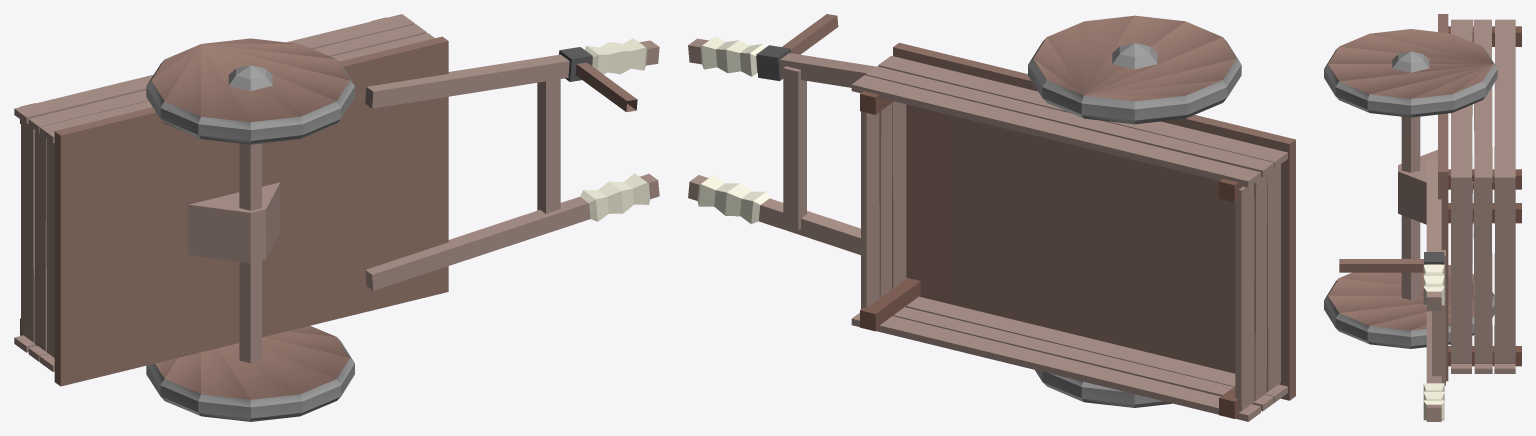
File: cart_draco.glb
3 views of the same model, side by side, from view 1: azimuth 30°, elevation 25°; view 2: azimuth 150°, elevation 25°; view 3: azimuth 270°, elevation 25° (orthographic). The views are drawn at different scales.
Visible parts, largest first — view 1: cart_001.001; view 2: cart_001.001; view 3: cart_001.001.
Part boxes in pixels (bbox=[...]): cart_001.001: bbox=[14, 14, 659, 421]; cart_001.001: bbox=[688, 14, 1295, 421]; cart_001.001: bbox=[1324, 14, 1521, 421].
Size of the model in its own units: 3.35 by 1.78 by 1.16.
1 material, 1 textured.
